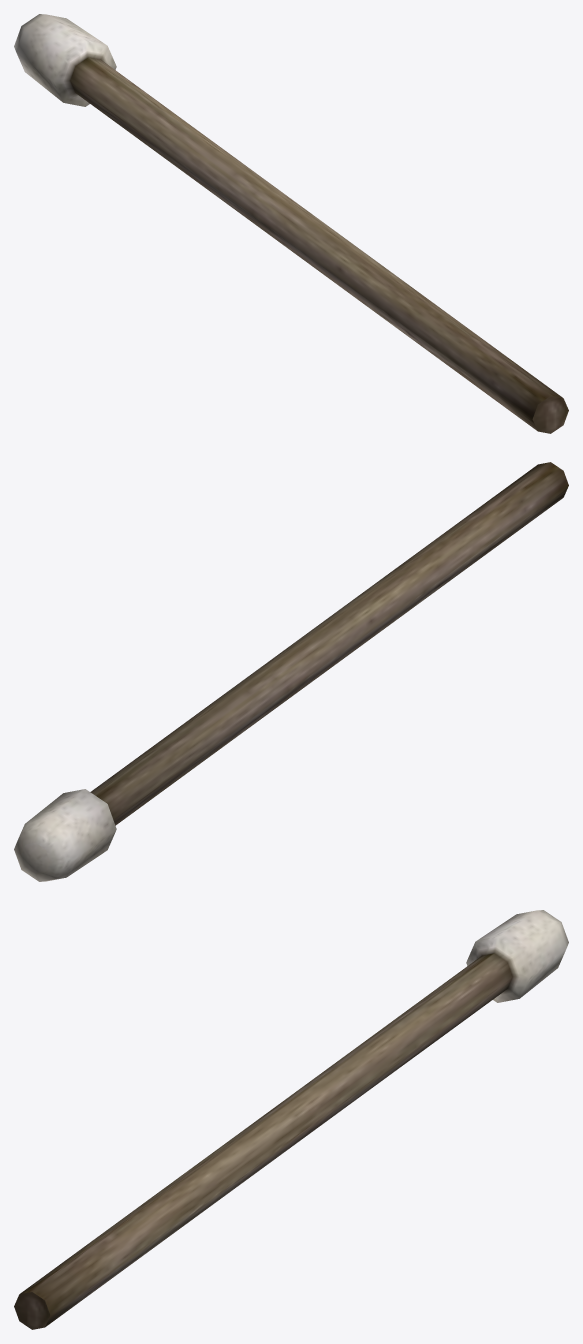
Rendered from pir_m_inv_can_ram_a.fbx.
The picture shows the model from 3 angles, top to bottom: view 1: azimuth 30°, elevation 25°; view 2: azimuth 150°, elevation 25°; view 3: azimuth 330°, elevation 25°; orthographic projection.
Visible parts, largest first — view 1: ram_a_root; view 2: ram_a_root; view 3: ram_a_root.
Part boxes in pixels (x1,y1,x2,y2): ram_a_root: (14,14,568,433); ram_a_root: (14,462,568,881); ram_a_root: (14,910,568,1329).
Size of the model in its own units: 25 by 25 by 357.
Materials: 1 (1 with a texture image).
